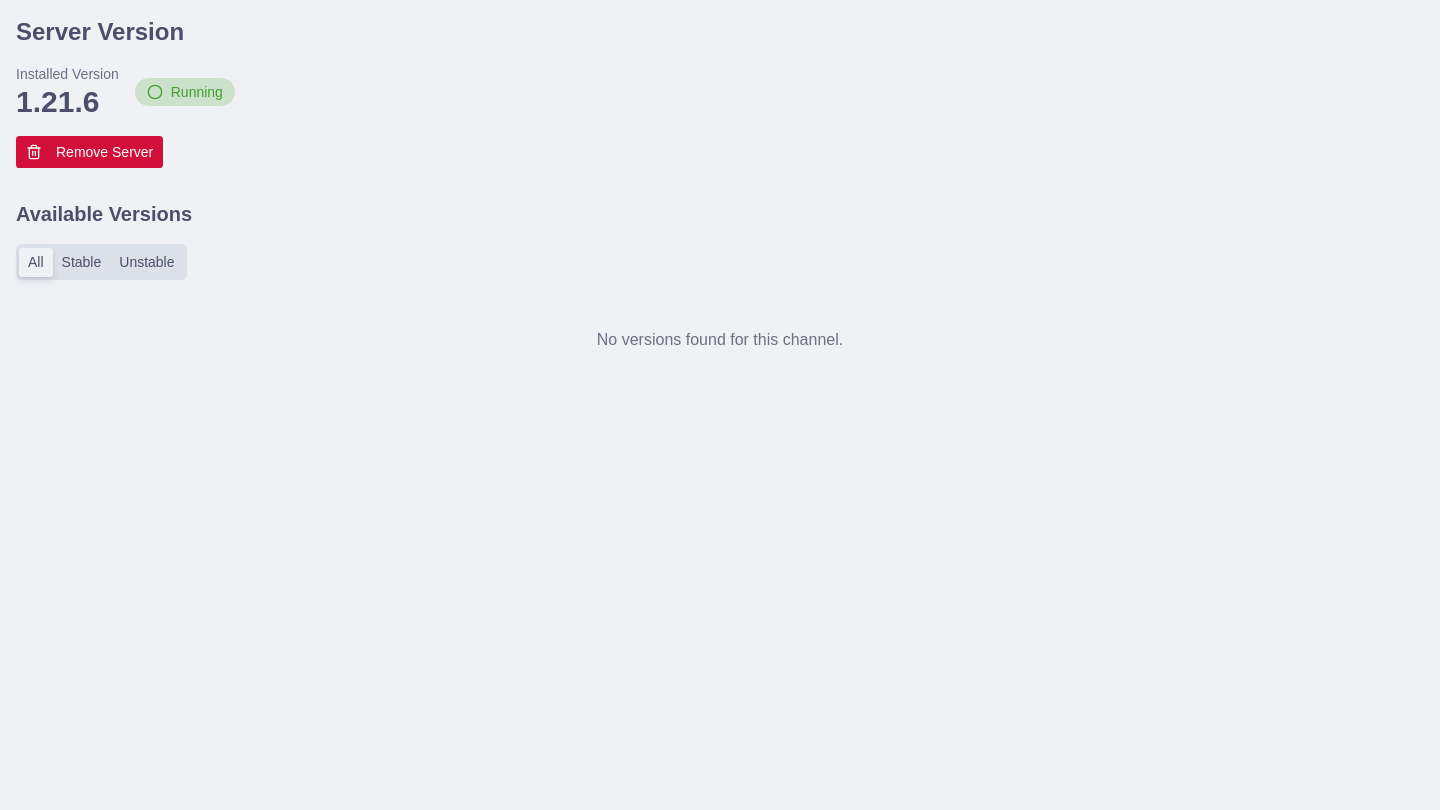
VersionPage › server uninstall (Story 13.7) › shows server running warning when server is running (AC: 2)
Click the button with test id "remove-server-button" at (90, 152), box [16,136,163,168]
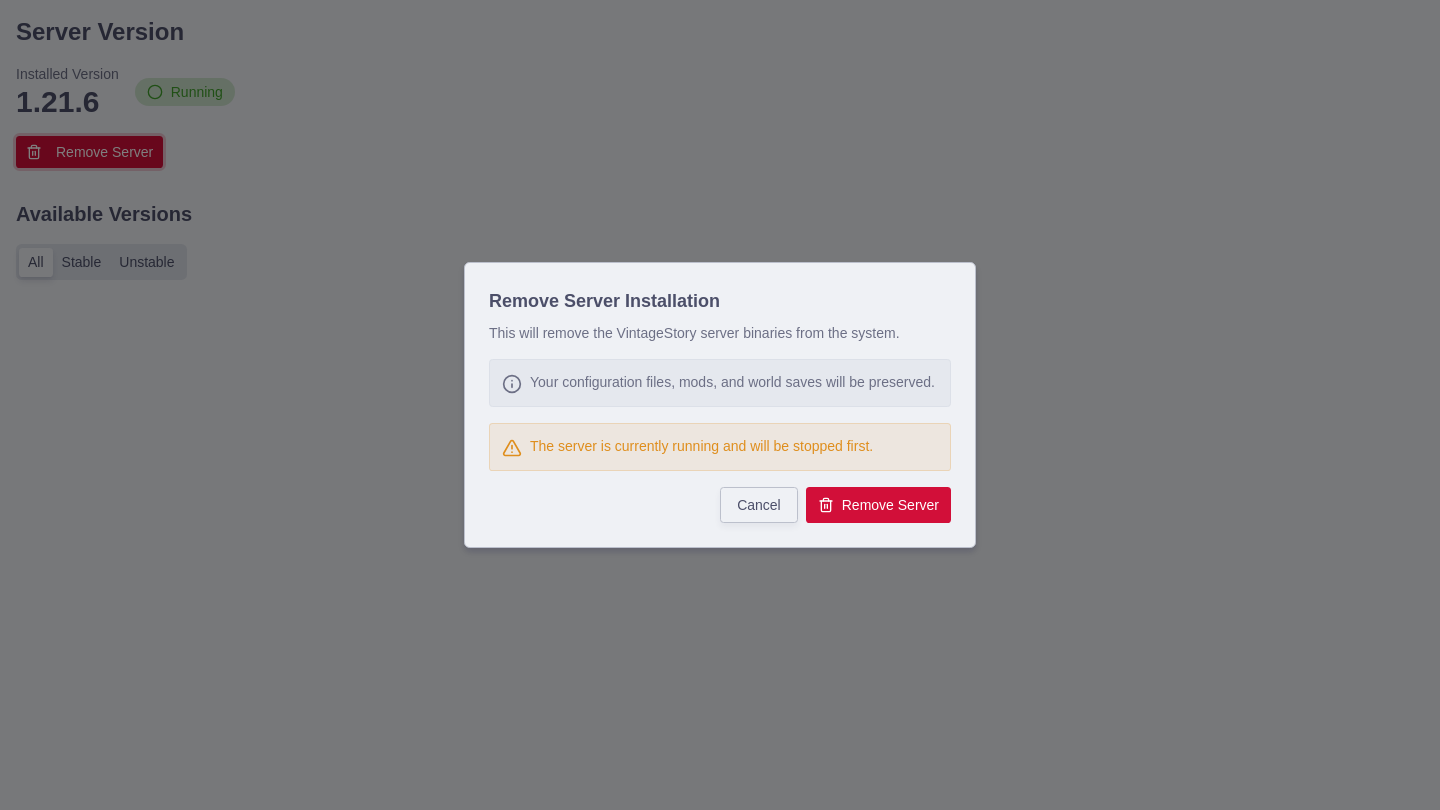
Check: the element with test id "server-running-warning" is shown, box [489,423,951,471]
